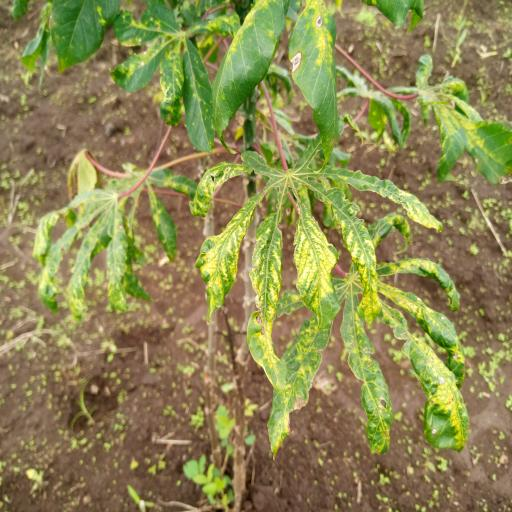Cassava_Mosaic: (256, 267, 472, 455), (199, 156, 444, 297), (211, 6, 343, 154), (38, 186, 154, 319), (110, 13, 227, 113), (422, 77, 512, 183)
